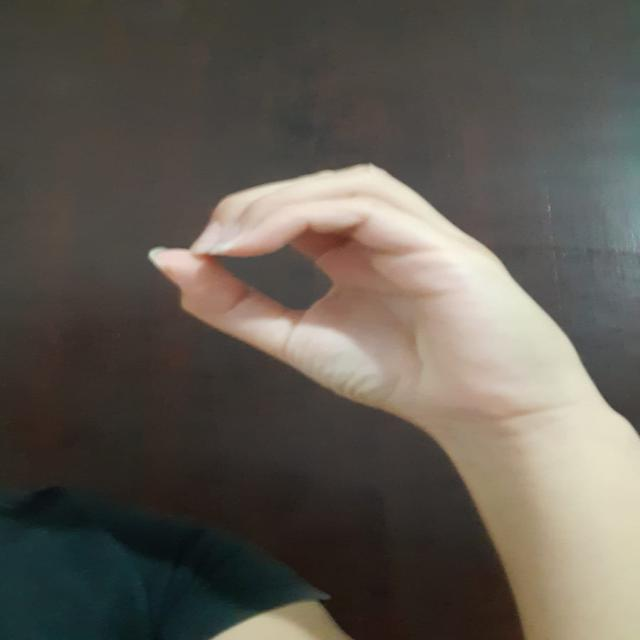O: (121, 160, 591, 418)
